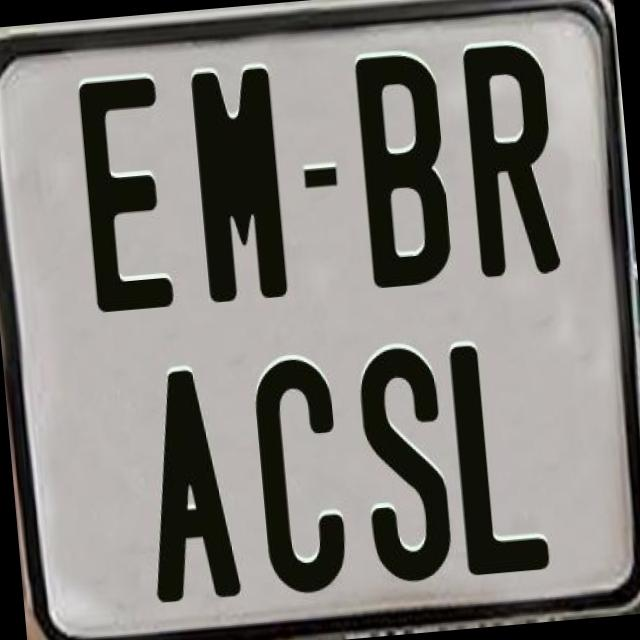A: (133, 364, 239, 606)
B: (350, 50, 450, 290)
C: (246, 352, 352, 592)
E: (77, 72, 179, 309)
L: (448, 337, 550, 577)
M: (190, 64, 290, 301)
R: (460, 38, 566, 282)
S: (356, 344, 458, 592)
